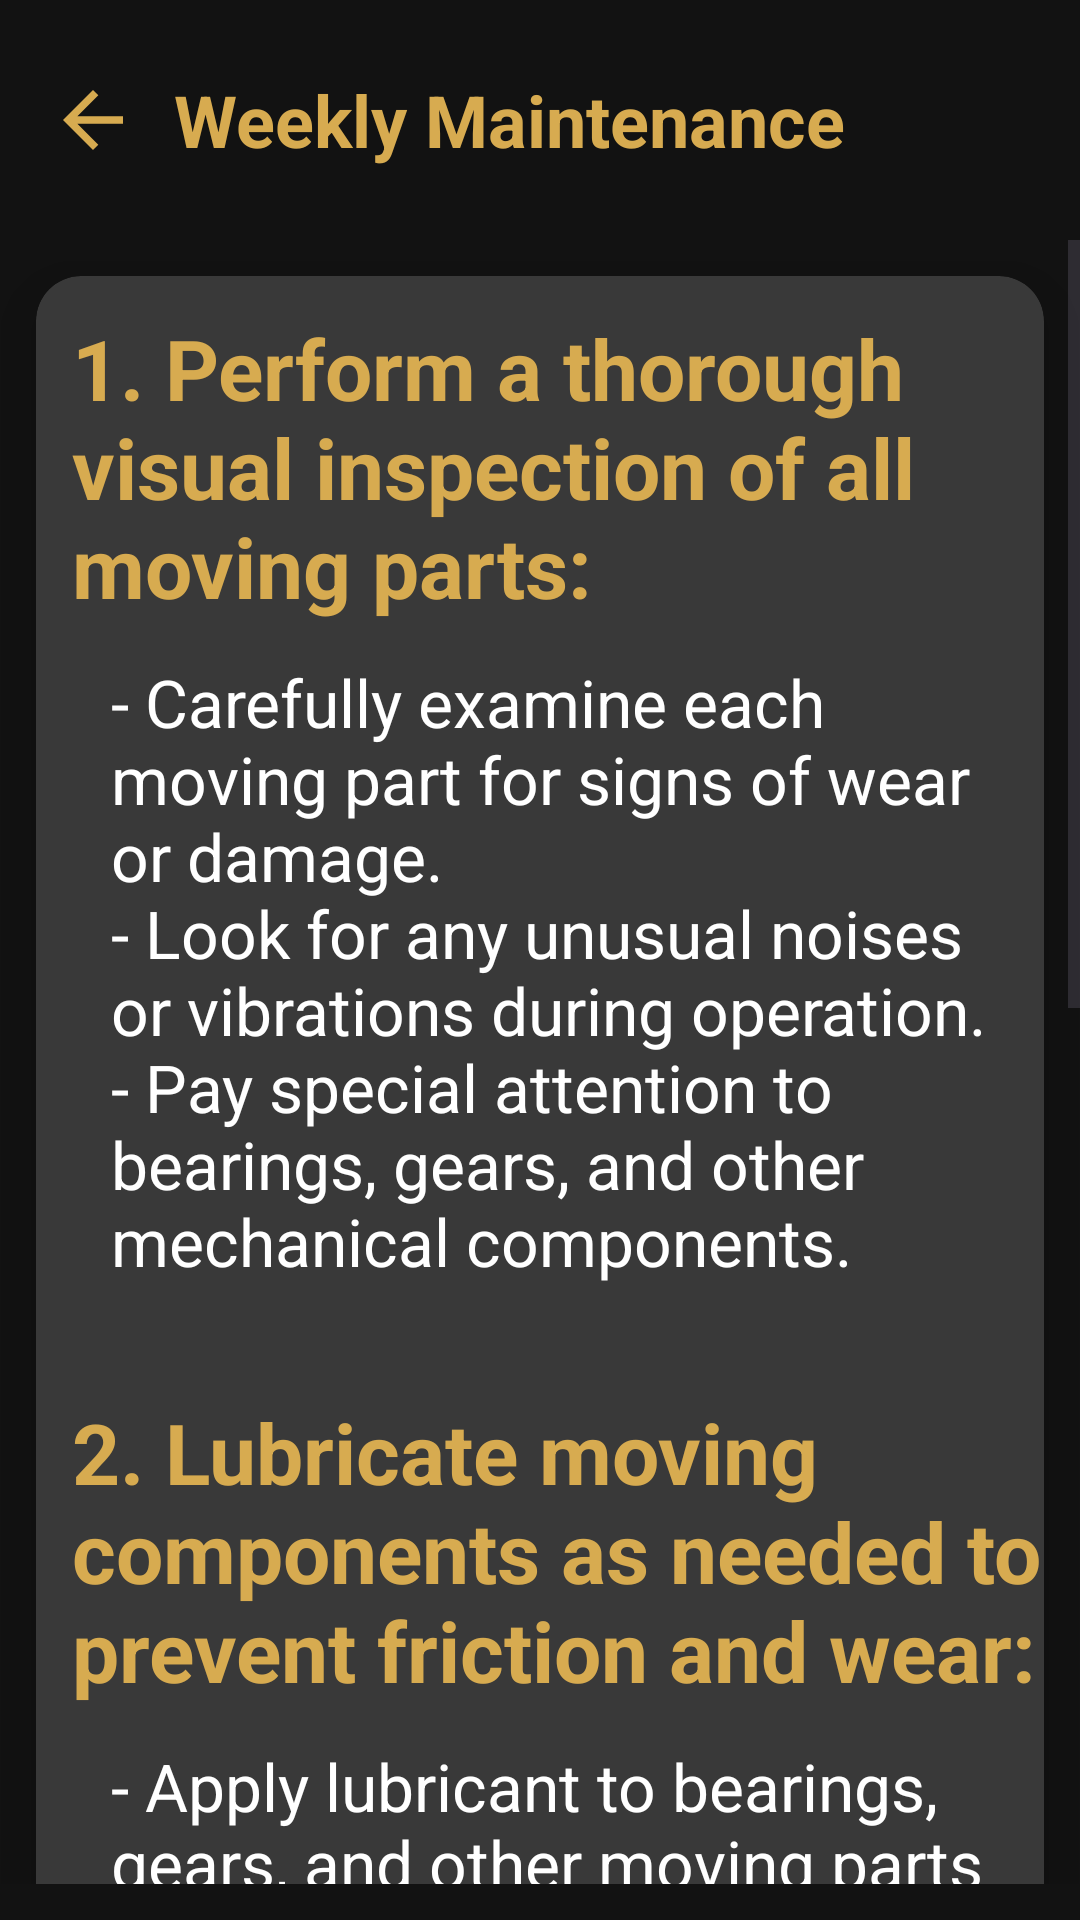

Icon bounding boxes for this 1080 × 1920 phone screenshot, format (x1, y1, x2, y2):
arrow back: (63, 90, 123, 150)
